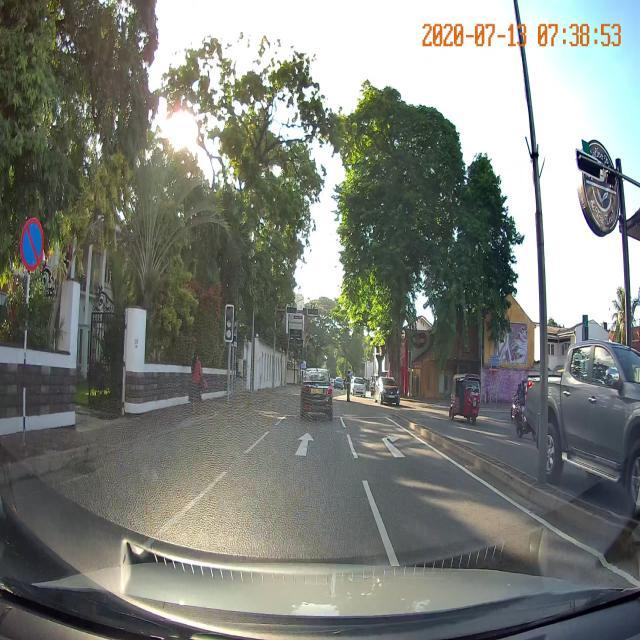forward: (247, 425, 360, 465)
right: (348, 434, 444, 462)
